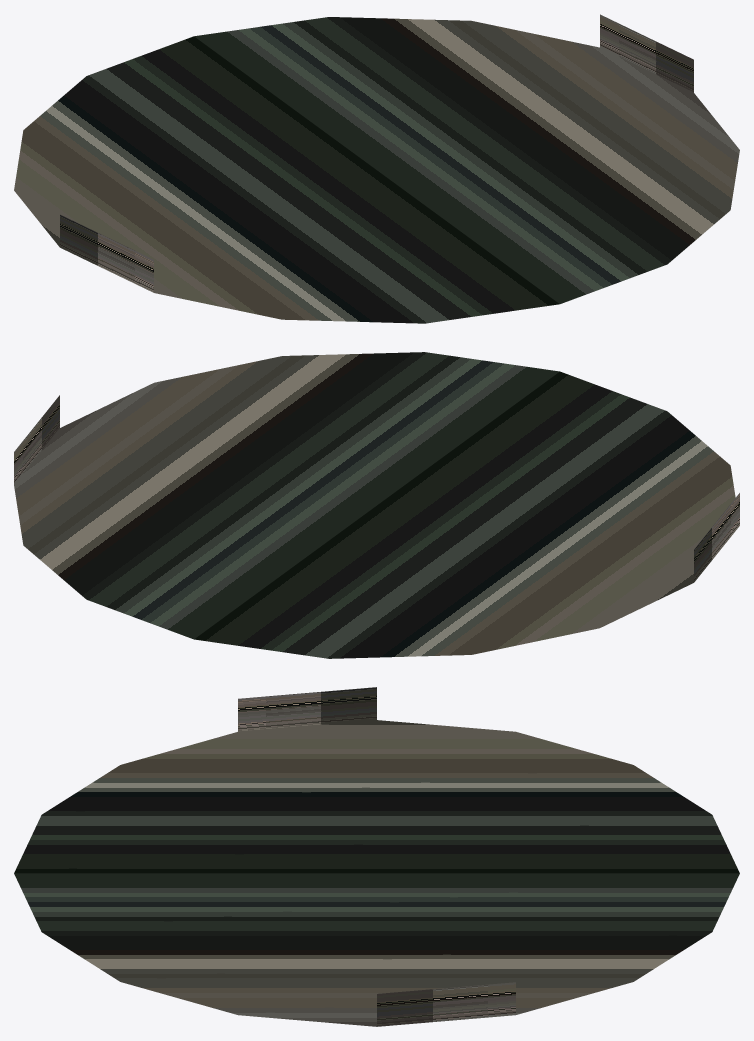
Rendered from sky-boss-vol-opt.obj.
3 renders of one model, top to bottom at view 1: azimuth 30°, elevation 25°; view 2: azimuth 150°, elevation 25°; view 3: azimuth 270°, elevation 25°, orthographic.
Parts seen in each view (by area): view 1: mesh_sky_0; view 2: mesh_sky_0; view 3: mesh_sky_0.
Part boxes in pixels (box(x1,y1,x2,y2)): mesh_sky_0: box(14, 14, 739, 323); mesh_sky_0: box(14, 352, 739, 658); mesh_sky_0: box(14, 687, 739, 1026).
Size of the model in its own units: 40000 by 2003 by 40000.
Materials: 1 (1 with a texture image).
